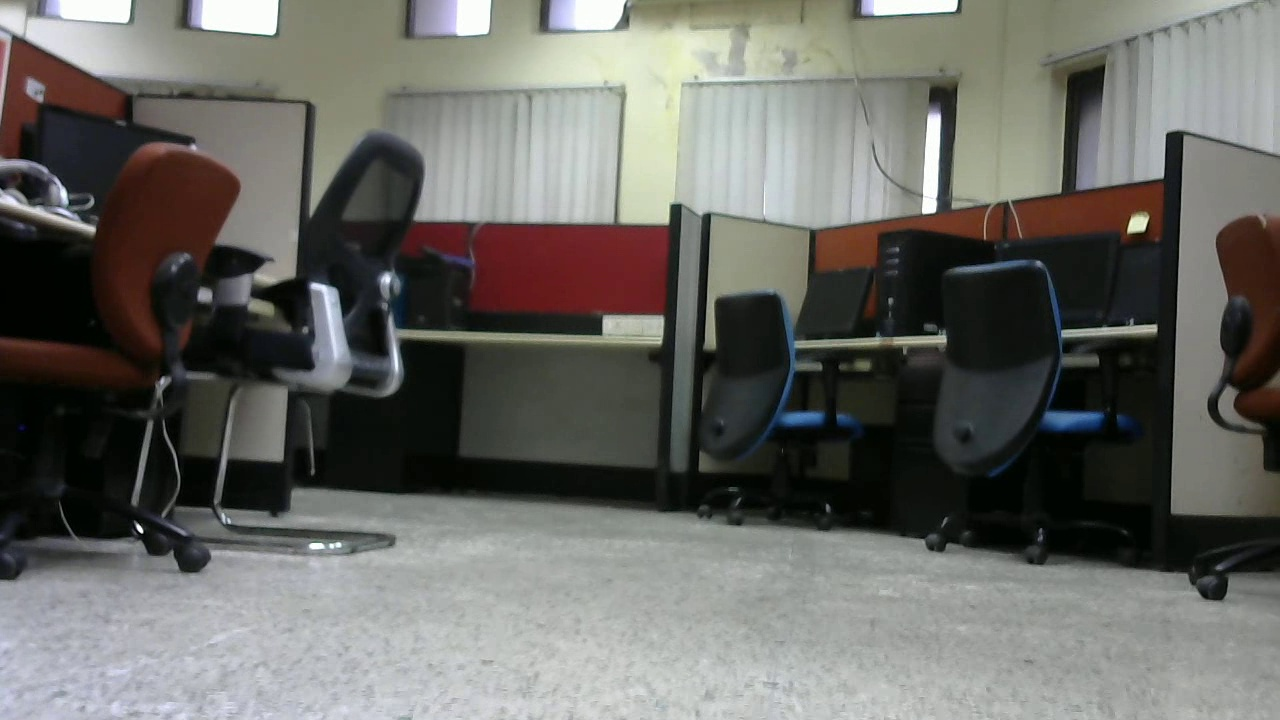chair: (1, 144, 248, 576), (238, 134, 442, 559), (908, 251, 1143, 567), (674, 290, 871, 538)
